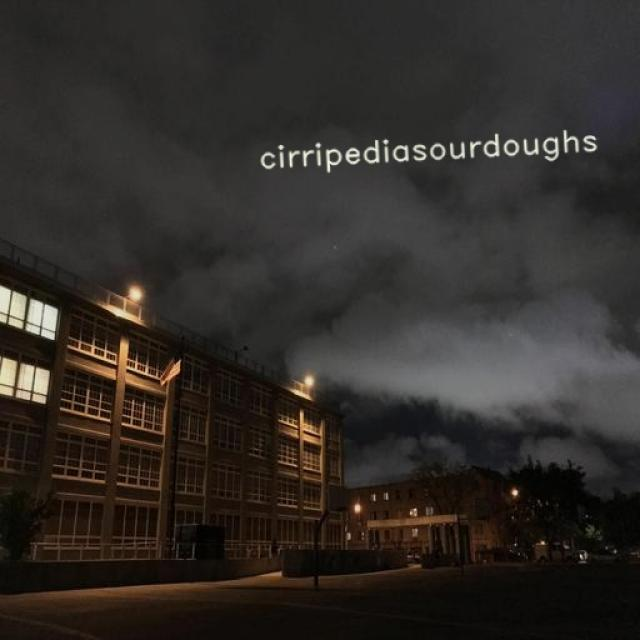watermark: (251, 126, 598, 173)
